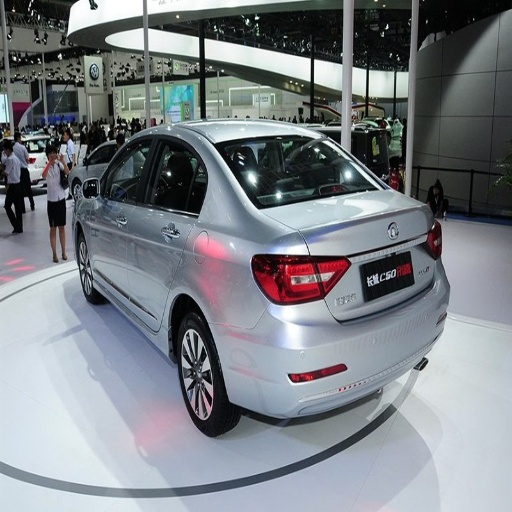back_bumper: (214, 280, 445, 461)
back_glass: (215, 135, 386, 208)
back_left_door: (130, 132, 203, 328)
